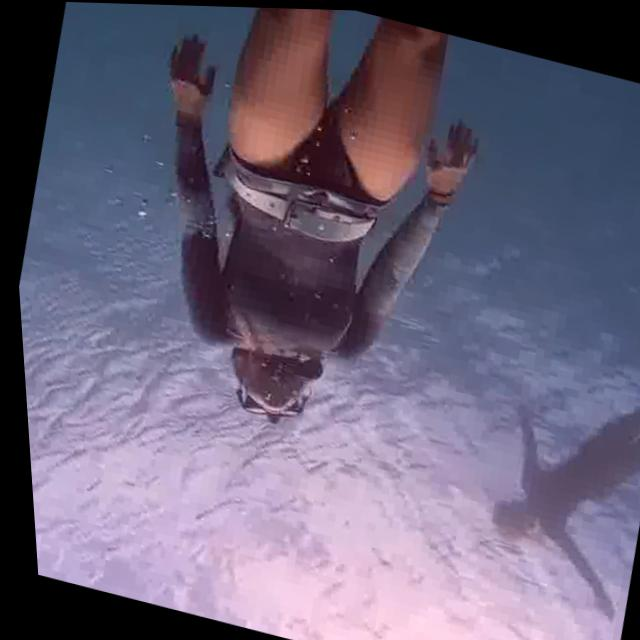human: (73, 2, 518, 480), (439, 280, 640, 624)
